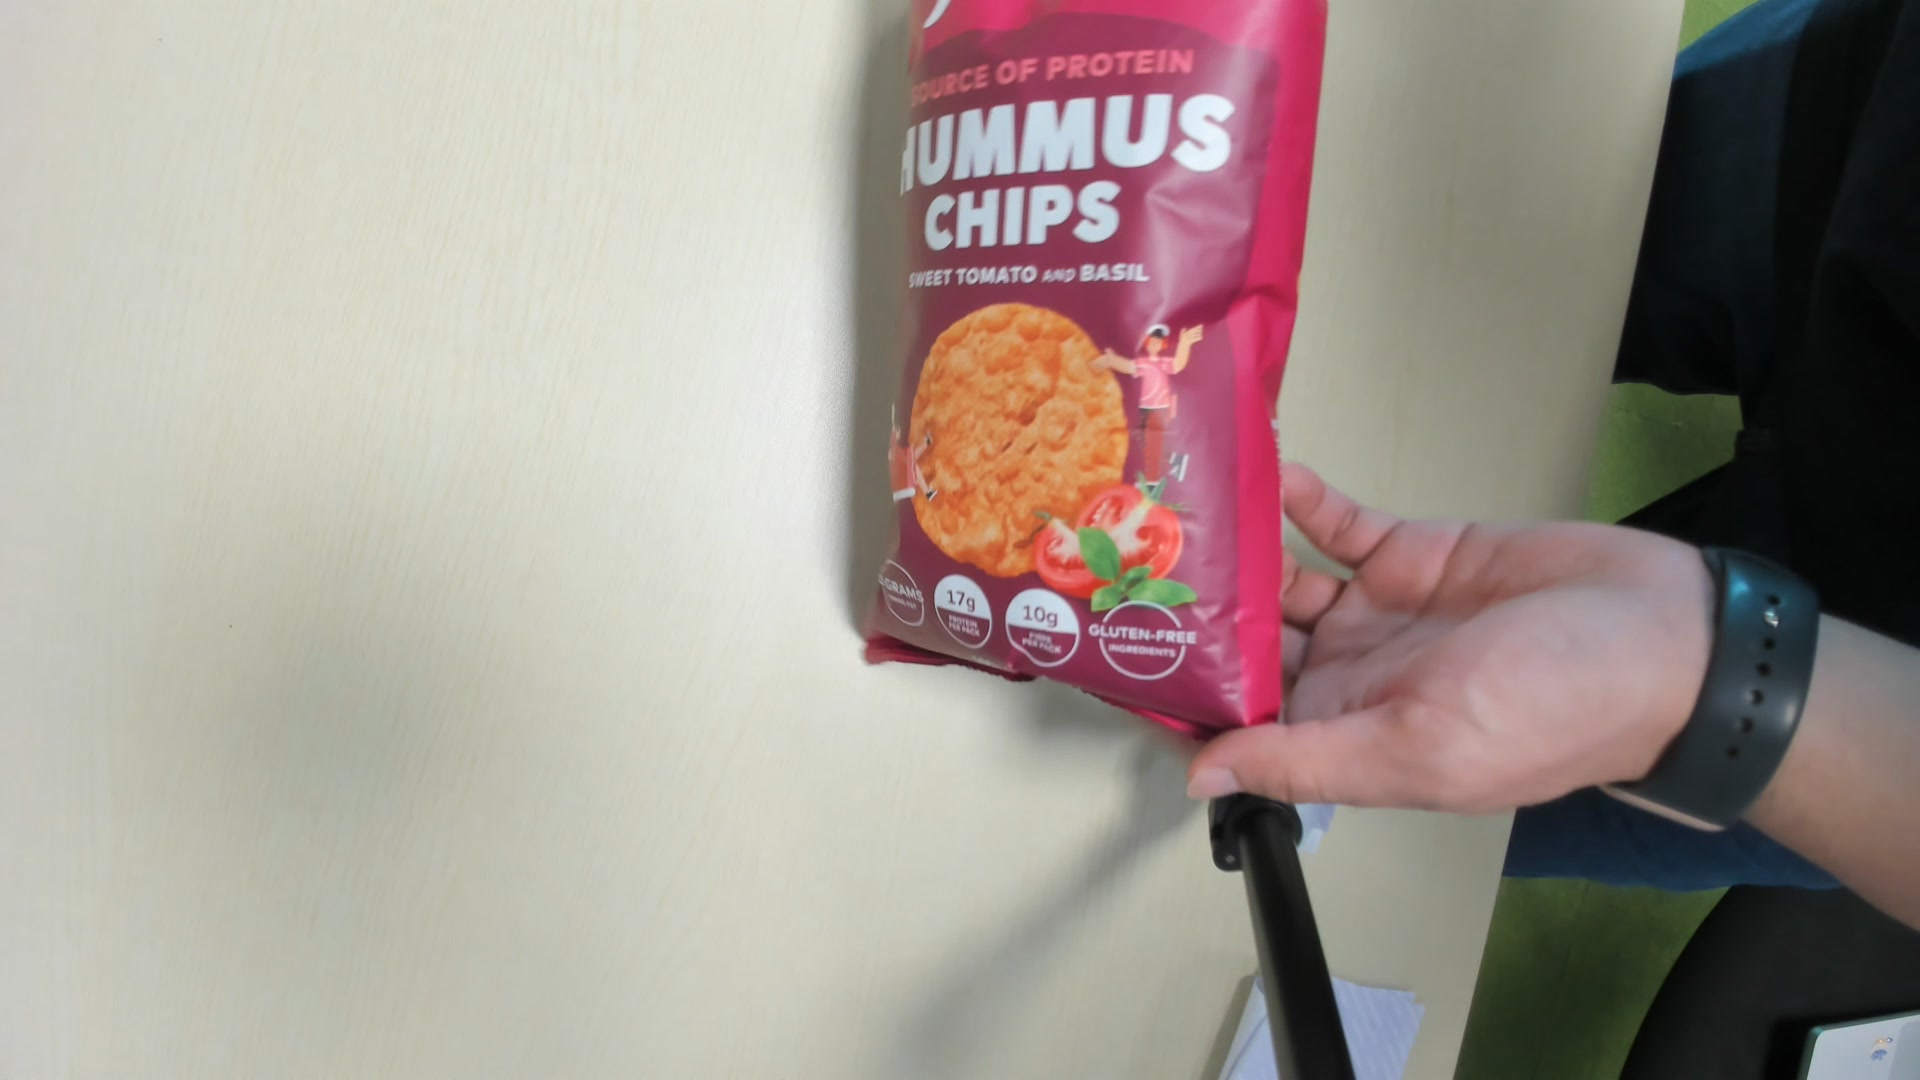PotatoChipsKeropok_100-199g_NonHalal_NonHealthy: (873, 3, 1316, 728)
